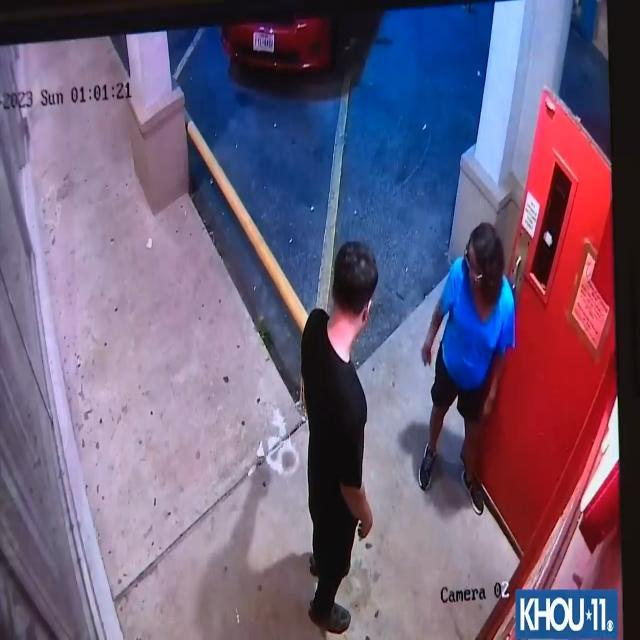Person: (298, 232, 376, 628), (426, 208, 515, 534)
